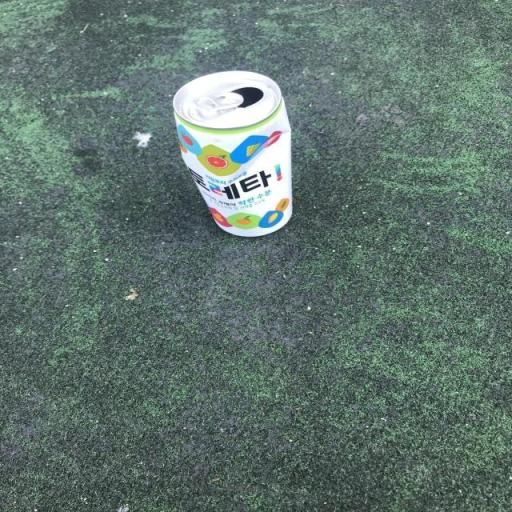metal: (153, 59, 333, 252)
